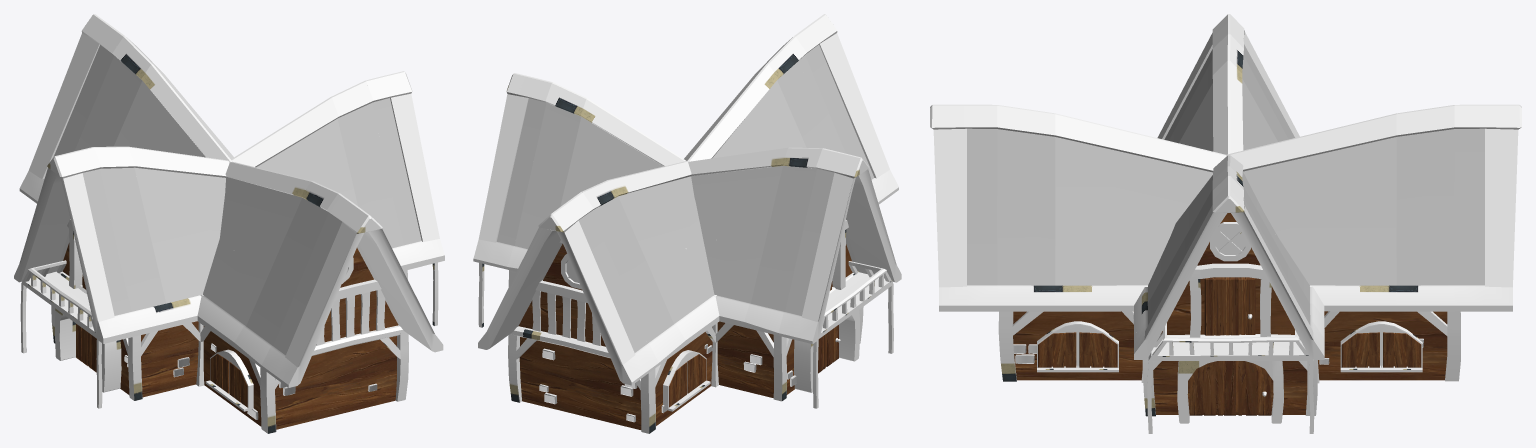
The model's file is House_6.fbx.
The picture shows the model from 3 angles, left to right: view 1: azimuth 30°, elevation 25°; view 2: azimuth 150°, elevation 25°; view 3: azimuth 270°, elevation 25°; orthographic projection. The views are drawn at different scales.
Parts seen in each view (by area): view 1: House_6; view 2: House_6; view 3: House_6.
Boxes of the visible parts, box(x1,y1,x2,y2) form: House_6: box(14, 14, 444, 433); House_6: box(473, 14, 901, 433); House_6: box(930, 14, 1521, 433).
Size of the model in its own units: 1058 by 648 by 1444.
